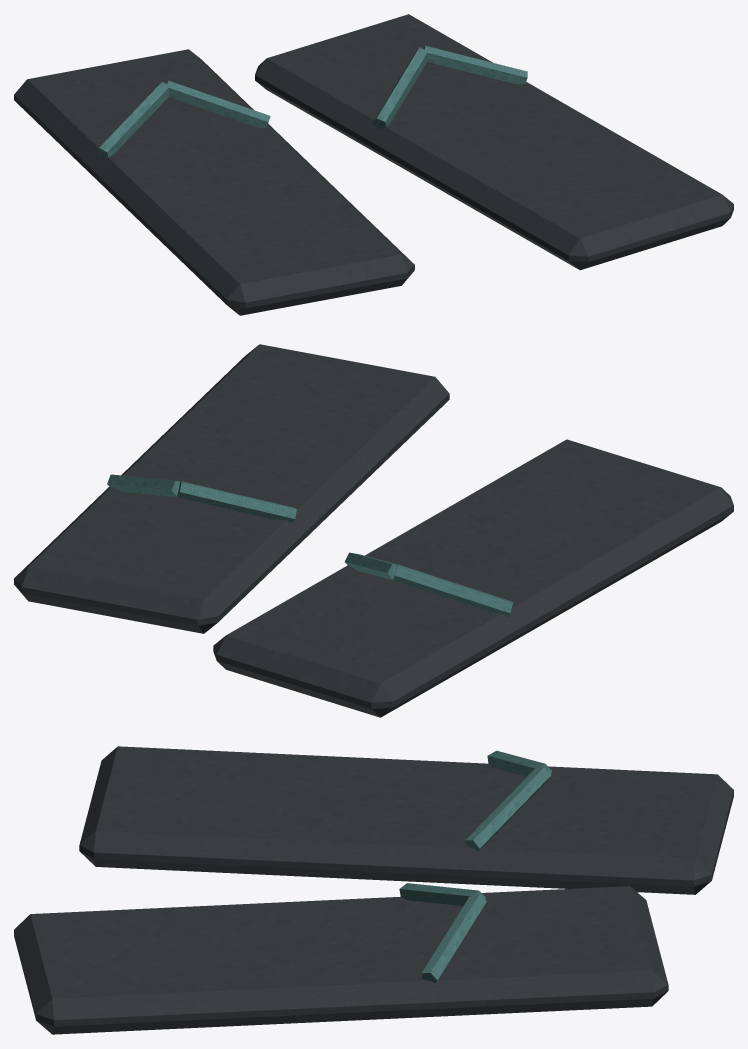
Rendered from flip_flops.glb.
3 views of the same model, one above another, from view 1: azimuth 30°, elevation 25°; view 2: azimuth 150°, elevation 25°; view 3: azimuth 270°, elevation 25° (orthographic). The views are drawn at different scales.
Parts seen in each view (by area): view 1: block_sole (×2), block_toe strap 1 (×2), block_toe strap 0 (×2); view 2: block_sole (×2), block_toe strap 0 (×2), block_toe strap 1 (×2); view 3: block_sole (×2), block_toe strap 1 (×2), block_toe strap 0 (×2).
Boxes of the visible parts, bbox=[...] form: block_sole (×2): bbox=[14, 14, 733, 315]; block_toe strap 1 (×2): bbox=[166, 45, 527, 128]; block_toe strap 0 (×2): bbox=[96, 47, 428, 158]; block_sole (×2): bbox=[14, 344, 733, 717]; block_toe strap 0 (×2): bbox=[177, 481, 513, 616]; block_toe strap 1 (×2): bbox=[107, 474, 401, 580]; block_sole (×2): bbox=[14, 746, 733, 1034]; block_toe strap 1 (×2): bbox=[421, 767, 551, 982]; block_toe strap 0 (×2): bbox=[399, 750, 552, 905].
Bounding box in the file's own units: 0.2691 × 0.0376 × 0.3078.
1 material, 1 textured.
